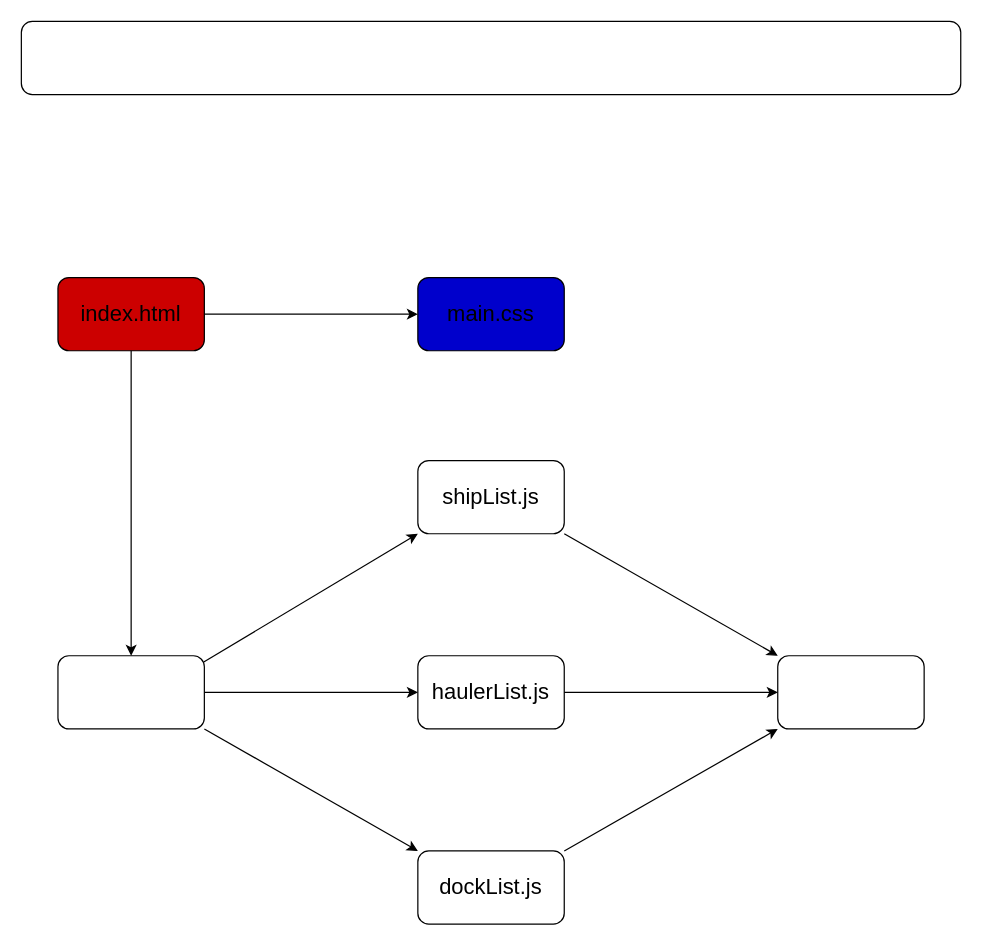
This 982x946 diagram has some shape labels left out. Each missing label, with the box of its shape:
database.js: (777, 655, 924, 729)
main.js: (57, 655, 204, 729)
Shipping Ship Ships: (20, 20, 961, 95)
